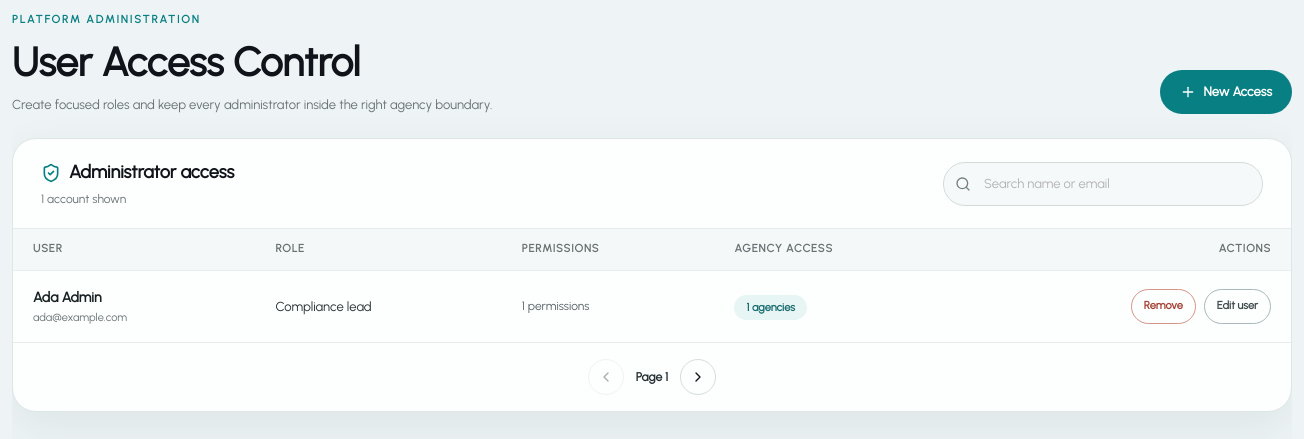
Test: UserAccessControlPage › uses cursor history for next and previous user pages
Expected: the text "Ada Admin" is shown, [33, 288, 101, 306]
Click the button named "Next page". click: (698, 377)
box: [680, 359, 716, 395]
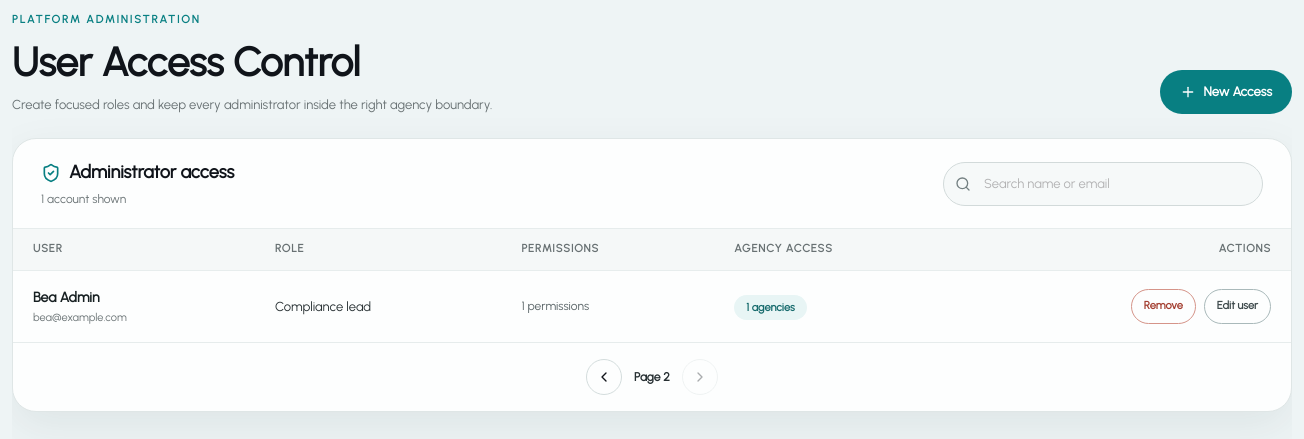
Expected: the text "Bea Admin" is shown, [33, 288, 100, 306]
Click the button named "Previous page". click: (604, 377)
box: [586, 359, 622, 395]
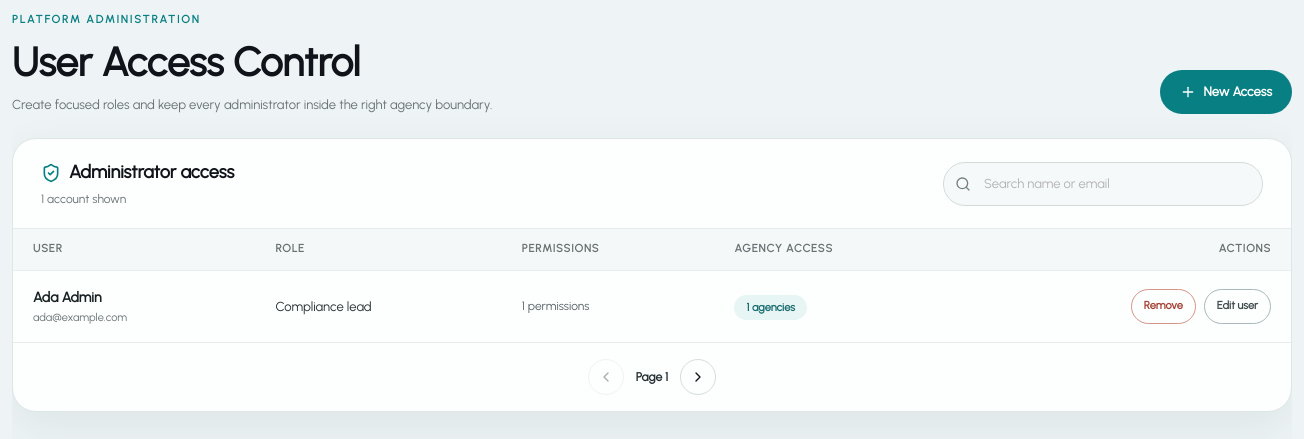
Expected: the text "Ada Admin" is shown, [33, 288, 101, 306]
